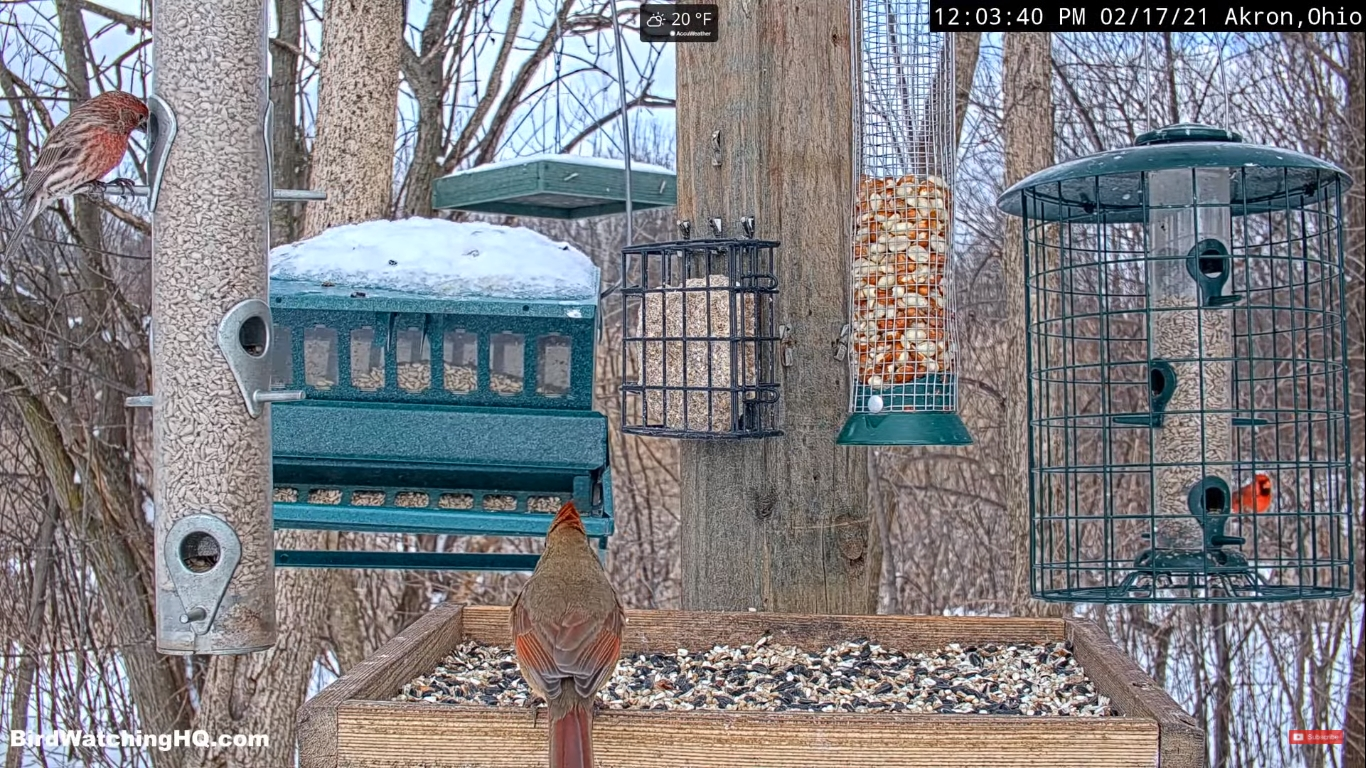bird: (509, 501, 622, 768), (5, 91, 150, 270)
